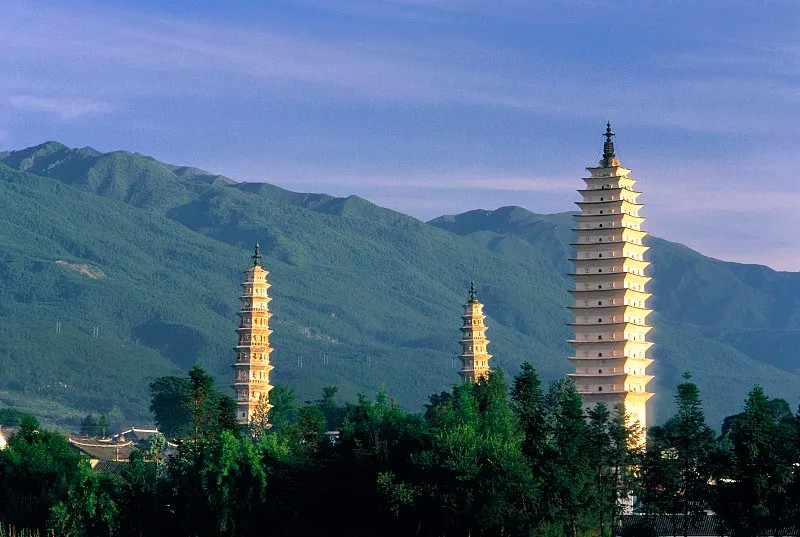ThreePagoda: (567, 121, 656, 455)
